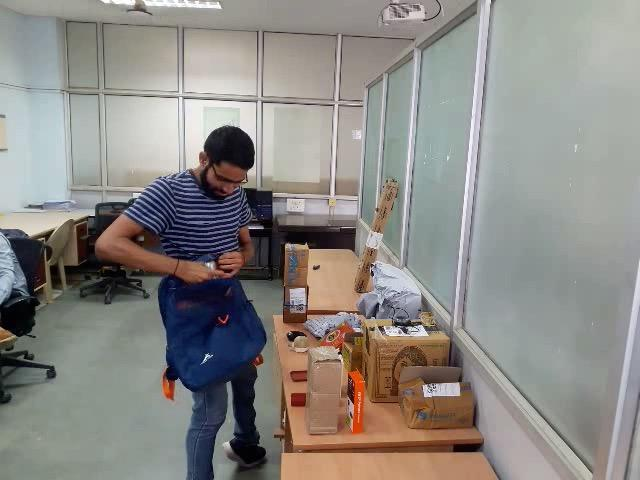Normal: (1, 4, 640, 480)
shoplifting: (96, 232, 319, 396)
